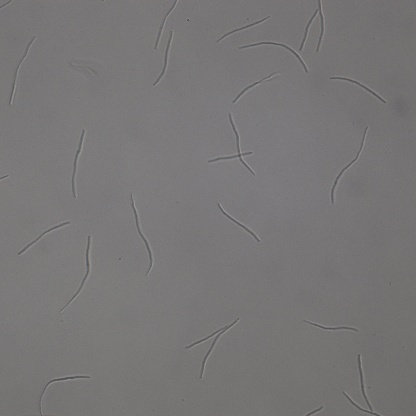Sensitive: (184, 317, 239, 378), (207, 112, 255, 176), (330, 126, 367, 204), (61, 235, 93, 312), (342, 353, 381, 416), (239, 41, 308, 74), (38, 374, 91, 416), (128, 192, 154, 276), (8, 35, 36, 105), (18, 220, 70, 254), (217, 202, 261, 241), (329, 75, 387, 104), (297, 1, 326, 53), (216, 15, 270, 42), (234, 73, 276, 102), (153, 1, 178, 49), (154, 31, 176, 85), (71, 129, 86, 198), (303, 319, 358, 333)
